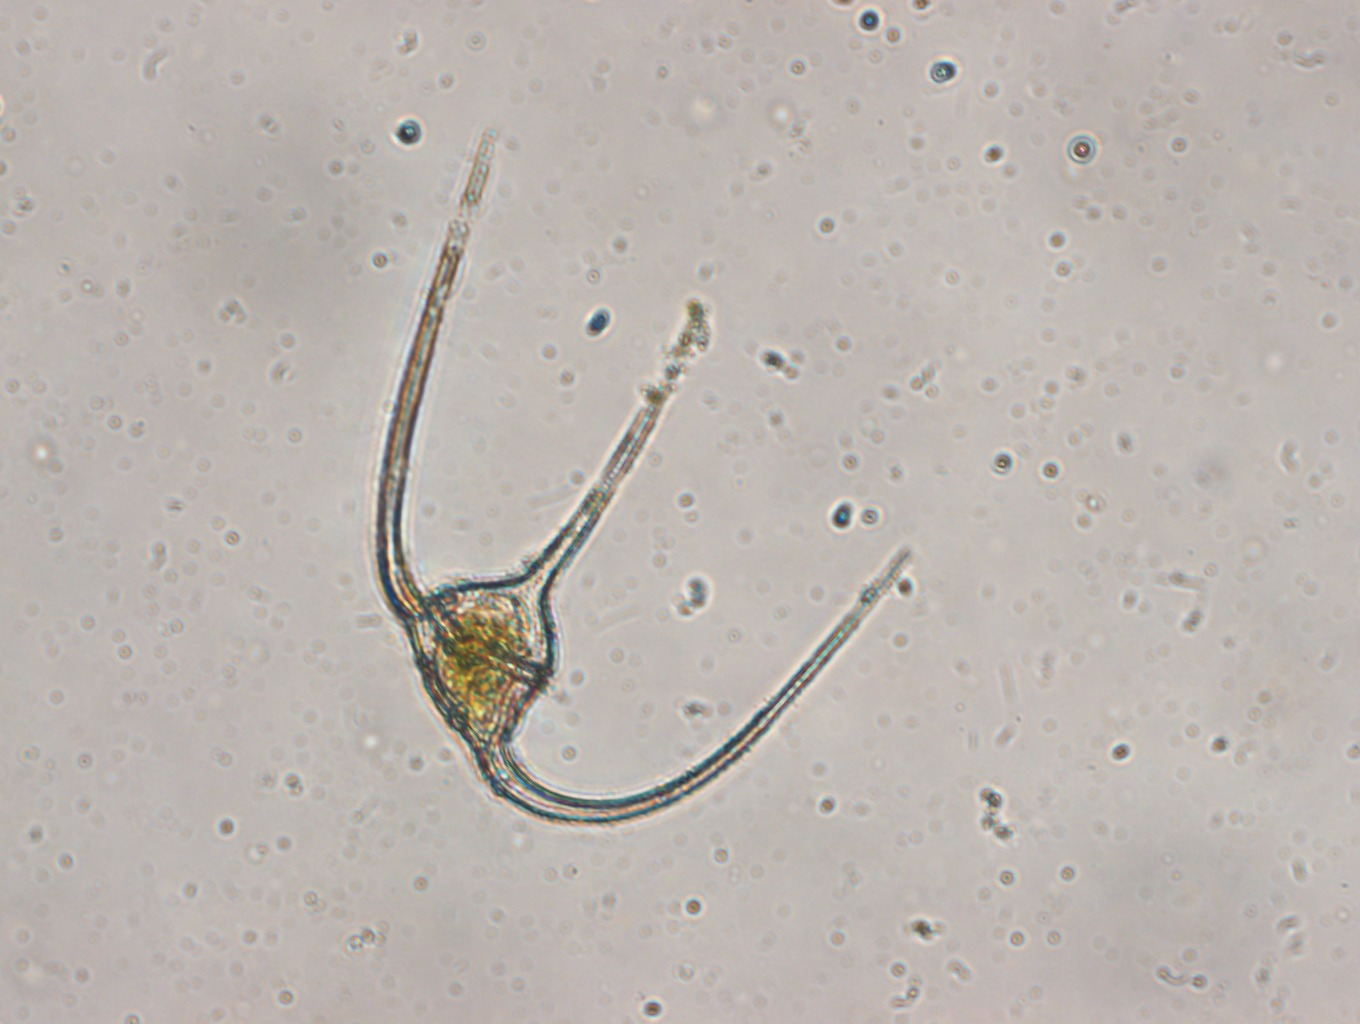ceratium trichoceros: (368, 116, 917, 834)
